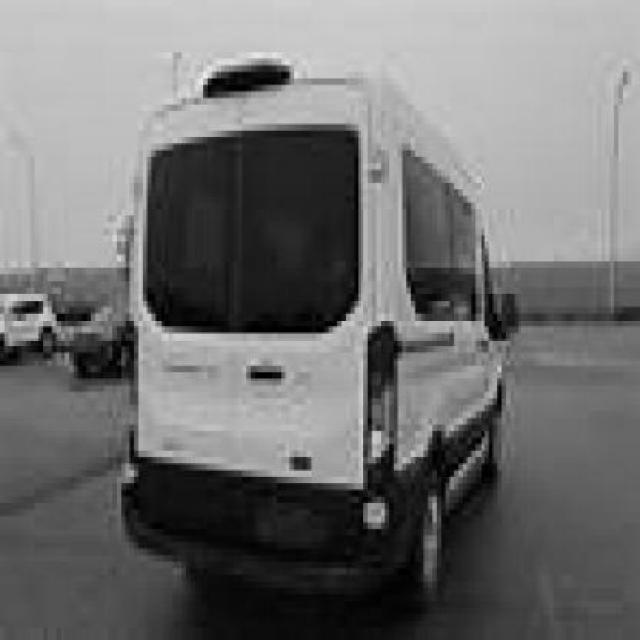Van: (118, 53, 516, 633)
